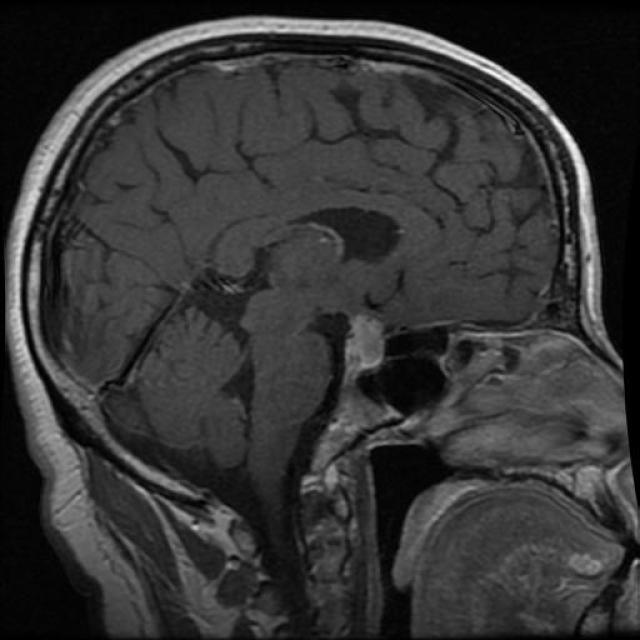pituitary: (324, 286, 391, 407)
